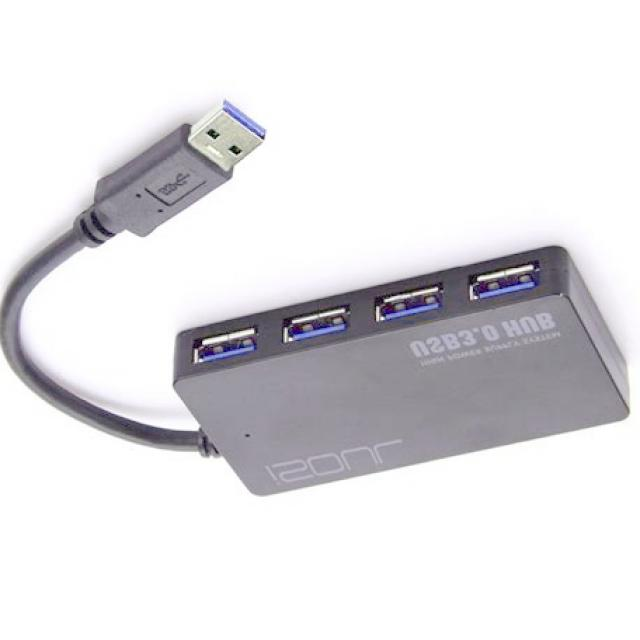usb port: (369, 276, 444, 332), (188, 317, 261, 373), (467, 264, 532, 309), (278, 309, 347, 348)
